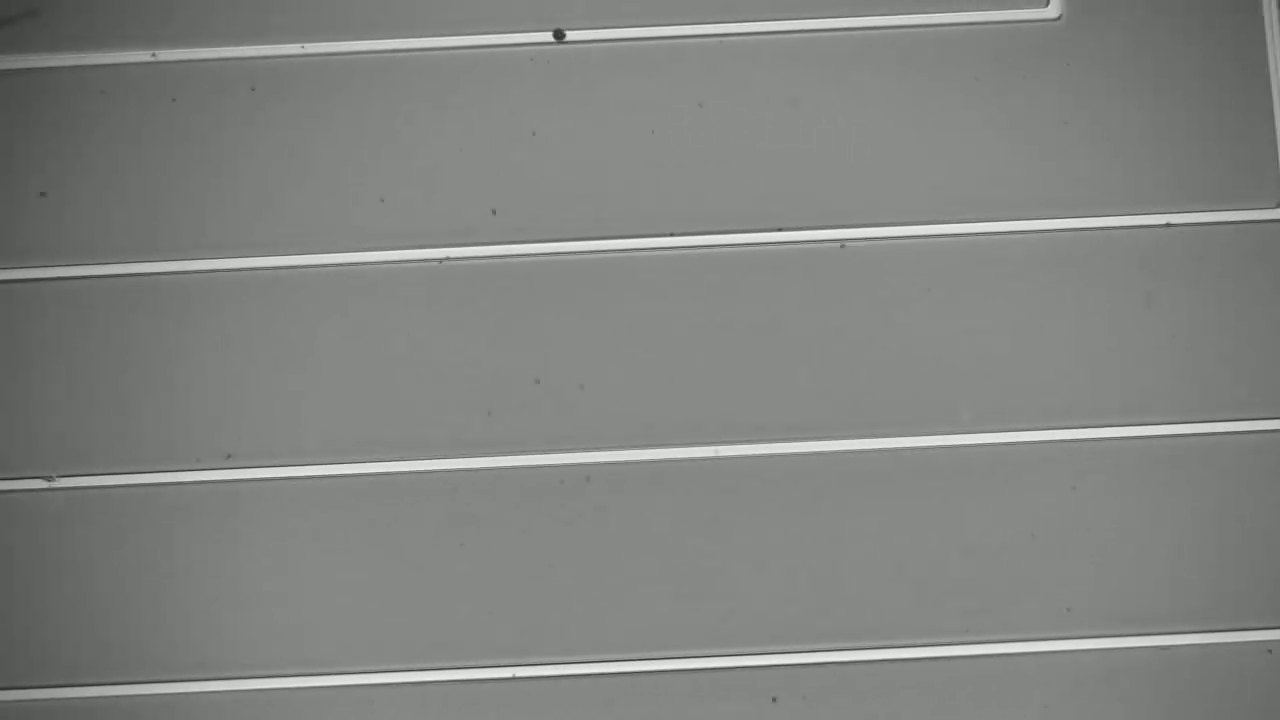stains_enbedded: (31, 467, 70, 501), (546, 16, 571, 56)
